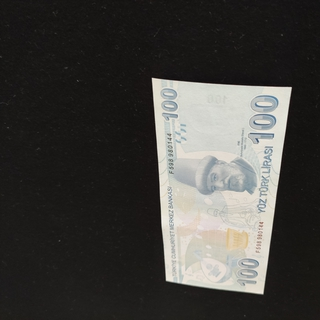100TLBack: (150, 77, 292, 295)
